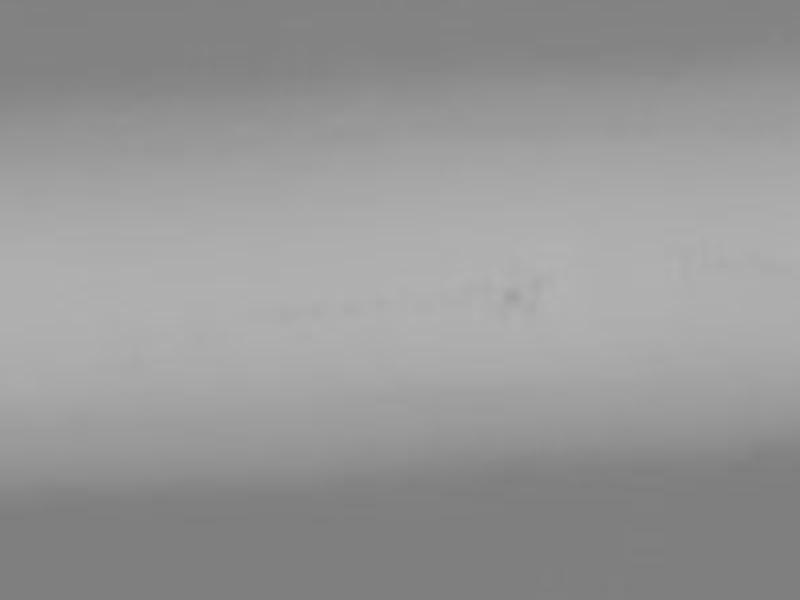defect: (370, 293, 404, 330), (334, 292, 365, 318), (523, 269, 550, 297), (521, 298, 543, 328), (499, 283, 523, 308), (301, 299, 322, 317)
